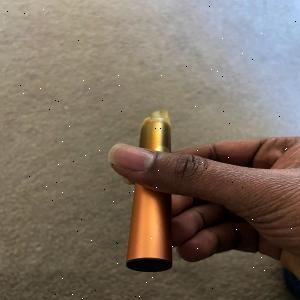Golden-E-Ciggirate: (122, 107, 177, 275)
